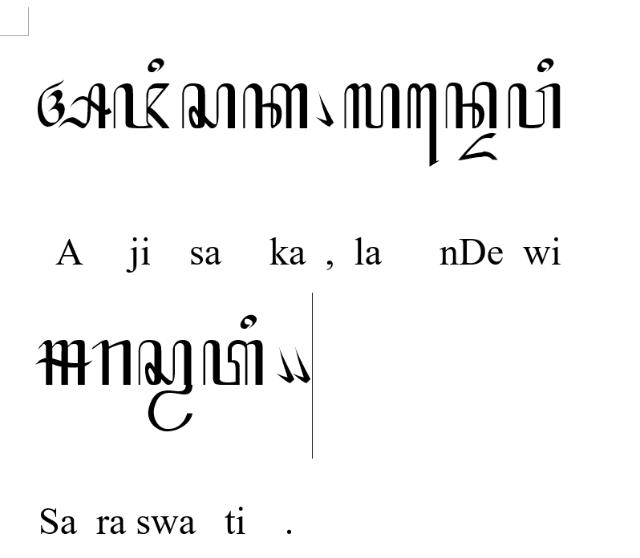A: (36, 80, 112, 128)
S: (34, 338, 92, 386)
_d: (458, 132, 498, 160)
e1: (407, 82, 439, 168)
i: (538, 57, 554, 73), (148, 58, 164, 72), (240, 315, 256, 329)
j: (112, 82, 170, 130)
k: (241, 83, 309, 129)
kom: (316, 89, 334, 126), (277, 348, 295, 383), (294, 348, 310, 384)
l: (344, 83, 400, 129)
n: (446, 82, 498, 130)
r: (92, 339, 132, 386)
s: (181, 83, 235, 129)
sw: (137, 339, 193, 432)
t: (202, 339, 264, 386)
w: (507, 83, 561, 129)
